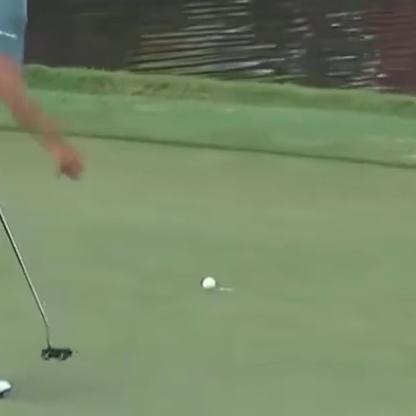golfball: (200, 274, 216, 290)
